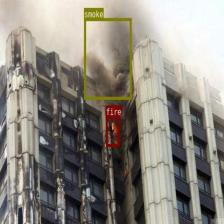fire: (106, 115, 120, 146)
smoke: (84, 18, 131, 100)
